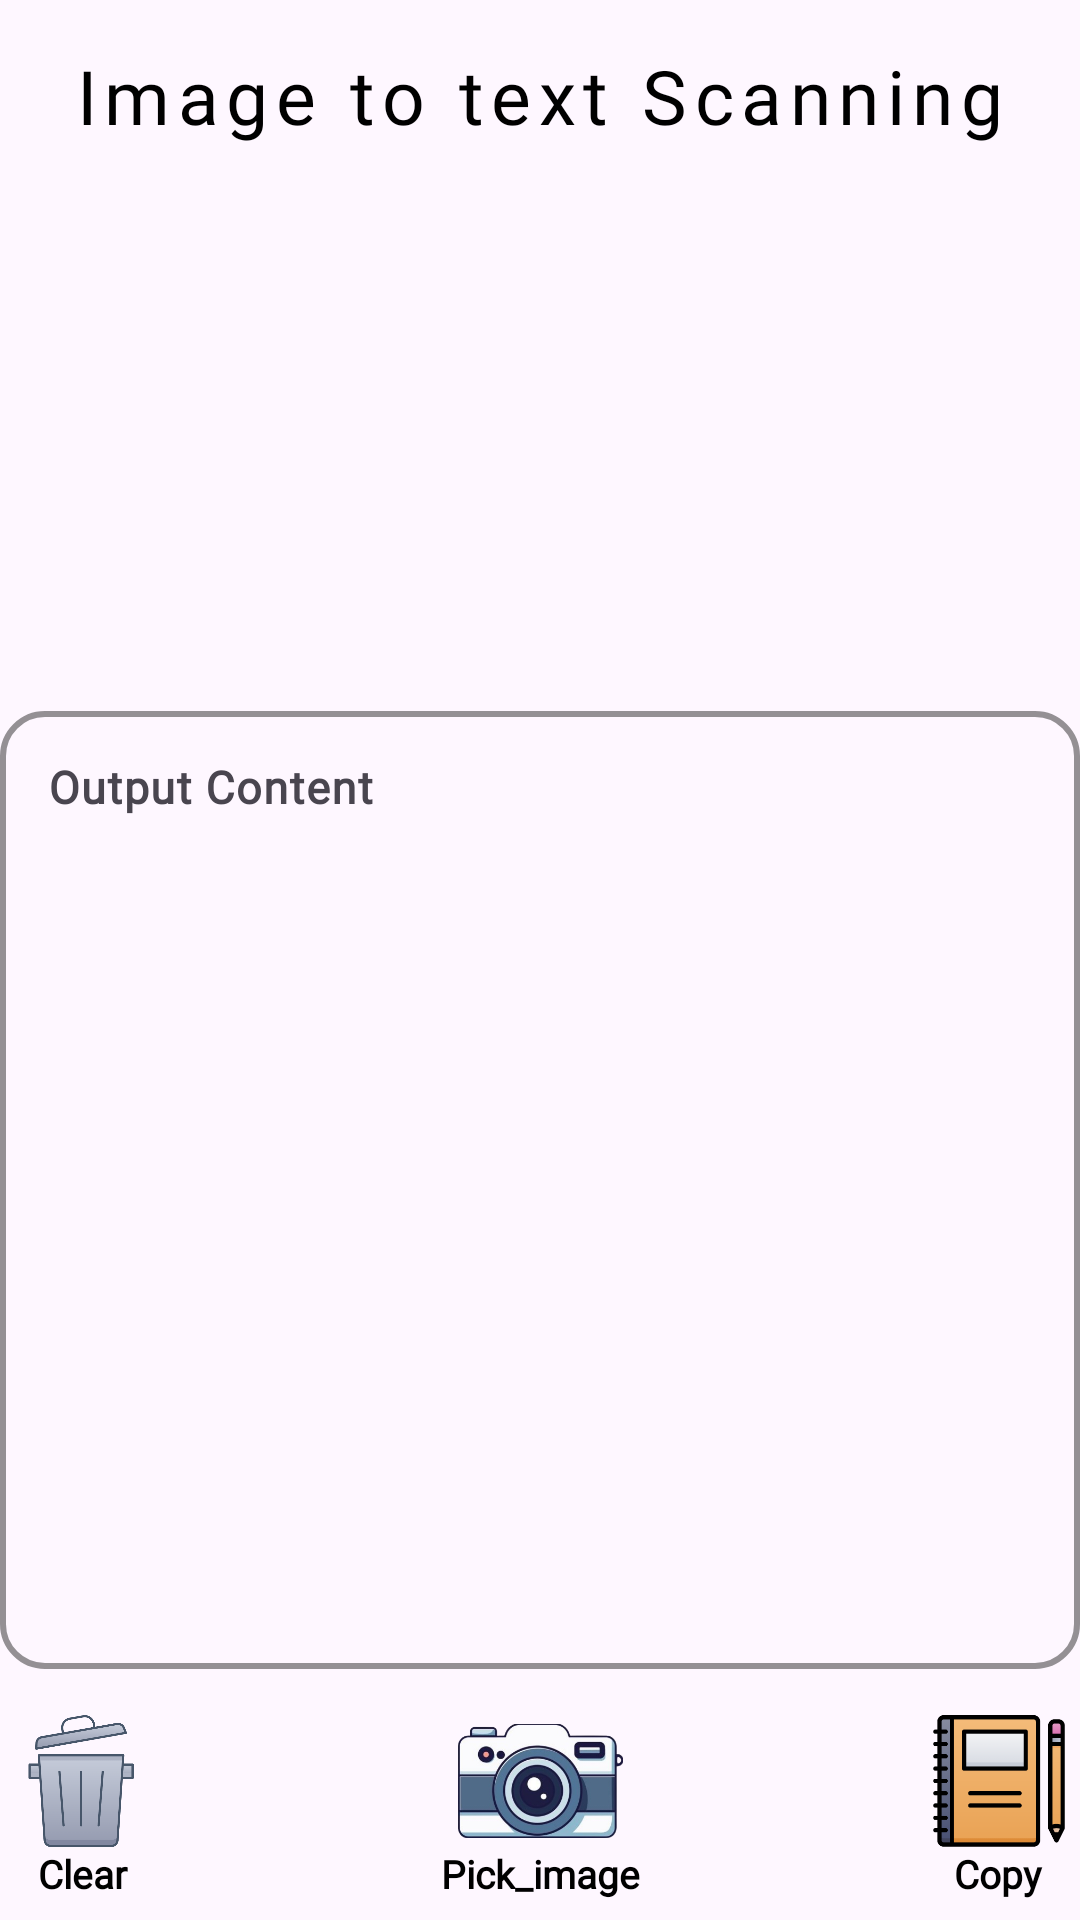

Icon bounding boxes for this 1080px×1920px phone screenshot, format (x1, y1, x2, y2):
camera: (458, 1724, 623, 1838)
note book: (933, 1715, 1065, 1847)
